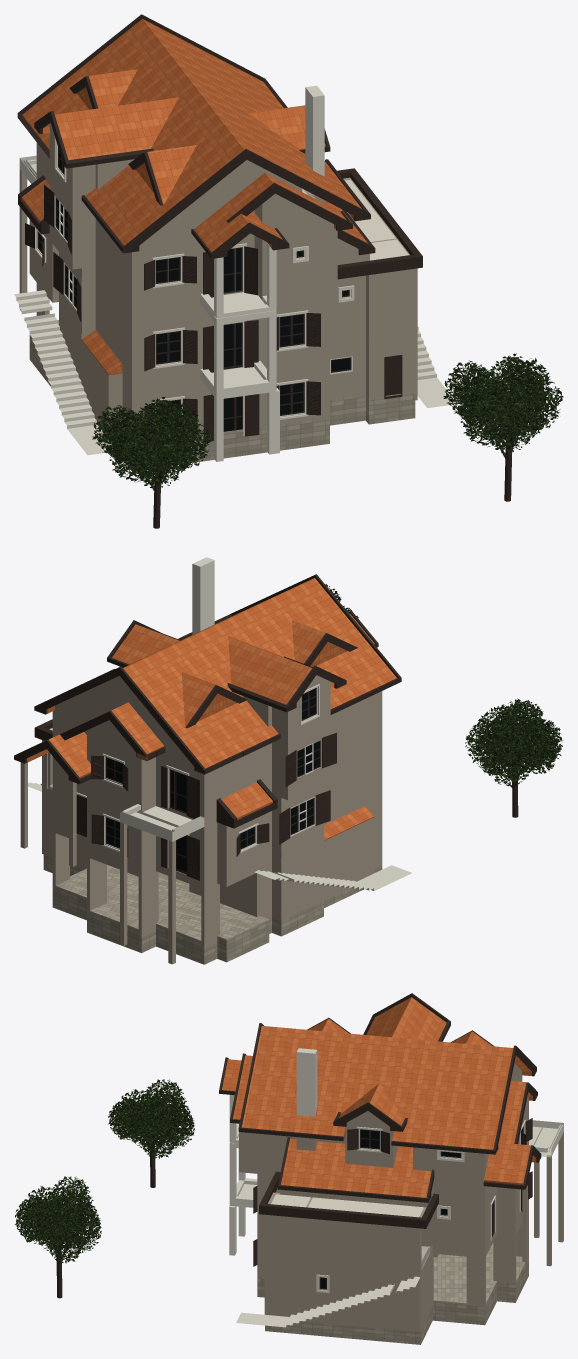
Rendered from context-detail-b18.glb.
3 views of the same model, one above another, from view 1: azimuth 30°, elevation 25°; view 2: azimuth 150°, elevation 25°; view 3: azimuth 270°, elevation 25° (orthographic). The views are drawn at different scales.
Visible parts, largest first — view 1: B18 | ÇATII.003, B18 | KAT 1$DUVAR, B18 | KAT 2$DUVAR, B18 | KAT 0$DUVAR, B18 | ek dalgalar, B18 | ÇATI ALIN.002, Individual folded leaves.010, Individual folded leaves.009, B18 | KAT 3$DUVAR, B18 foundation below BK, B18 | PENCERE_KAPI$SHUTTER.001, B18 | ÇATI ALIN (+18 smaller); view 2: B18 | ÇATII.003, B18 | KAT 0$DUVAR, B18 | KAT 1$DUVAR, B18 | KAT 2$DUVAR, B18 foundation below BK, B18 | ÇATI ALIN.002, Individual folded leaves.009, B18 | KAT 3$DUVAR, B18 | ÇATI ALIN.001, B18 | PENCERE_KAPI$SHUTTER.001, B18 | ÇATII.002, B18 | PENCERE_KAPI$SHUTTER.002 (+9 smaller); view 3: B18 | ÇATII.003, B18 | KAT 1$DUVAR, B18 | KAT 0$DUVAR, B18 | ÇATII.002, B18 | KAT 2$DUVAR, B18 foundation below BK, Individual folded leaves.010, Individual folded leaves.009, B18 | ÇATI ALIN.002, B18 | ek dalgalar, B18 | ÇATI ALIN.001, B18 | ÇATI ALIN (+6 smaller).
Part boxes in pixels (bbox=[...]): B18 | ÇATII.003: bbox=[22, 19, 361, 252]; B18 | KAT 1$DUVAR: bbox=[29, 177, 417, 384]; B18 | KAT 2$DUVAR: bbox=[36, 142, 369, 312]; B18 | KAT 0$DUVAR: bbox=[19, 169, 417, 435]; B18 | ek dalgalar: bbox=[14, 290, 455, 461]; B18 | ÇATI ALIN.002: bbox=[18, 14, 370, 258]; Individual folded leaves.010: bbox=[443, 353, 563, 452]; Individual folded leaves.009: bbox=[92, 396, 212, 487]; B18 | KAT 3$DUVAR: bbox=[49, 124, 333, 242]; B18 foundation below BK: bbox=[29, 320, 415, 470]; B18 | PENCERE_KAPI$SHUTTER.001: bbox=[25, 223, 320, 372]; B18 | ÇATI ALIN: bbox=[18, 168, 422, 279]; B18 | ÇATII.003: bbox=[70, 578, 396, 768]; B18 | KAT 0$DUVAR: bbox=[42, 794, 382, 964]; B18 | KAT 1$DUVAR: bbox=[20, 728, 382, 889]; B18 | KAT 2$DUVAR: bbox=[52, 691, 382, 825]; B18 foundation below BK: bbox=[43, 854, 382, 964]; B18 | ÇATI ALIN.002: bbox=[34, 574, 401, 773]; Individual folded leaves.009: bbox=[465, 698, 563, 787]; B18 | KAT 3$DUVAR: bbox=[55, 675, 330, 760]; B18 | ÇATI ALIN.001: bbox=[14, 614, 401, 822]; B18 | PENCERE_KAPI$SHUTTER.001: bbox=[91, 790, 330, 880]; B18 | ÇATII.002: bbox=[27, 705, 272, 817]; B18 | PENCERE_KAPI$SHUTTER.002: bbox=[91, 666, 336, 818]; B18 | ÇATII.003: bbox=[222, 997, 532, 1149]; B18 | KAT 1$DUVAR: bbox=[257, 1161, 539, 1278]; B18 | KAT 0$DUVAR: bbox=[257, 1132, 563, 1331]; B18 | ÇATII.002: bbox=[281, 1071, 536, 1197]; B18 | KAT 2$DUVAR: bbox=[239, 1075, 528, 1207]; B18 foundation below BK: bbox=[257, 1242, 528, 1344]; Individual folded leaves.010: bbox=[14, 1176, 101, 1263]; Individual folded leaves.009: bbox=[108, 1079, 194, 1158]; B18 | ÇATI ALIN.002: bbox=[219, 993, 537, 1153]; B18 | ek dalgalar: bbox=[229, 1178, 420, 1327]; B18 | ÇATI ALIN.001: bbox=[219, 1068, 541, 1202]; B18 | ÇATI ALIN: bbox=[259, 1171, 438, 1228].
Size of the model in its own units: 21.26 by 14.71 by 29.04.
Materials: 12 (12 with a texture image).
